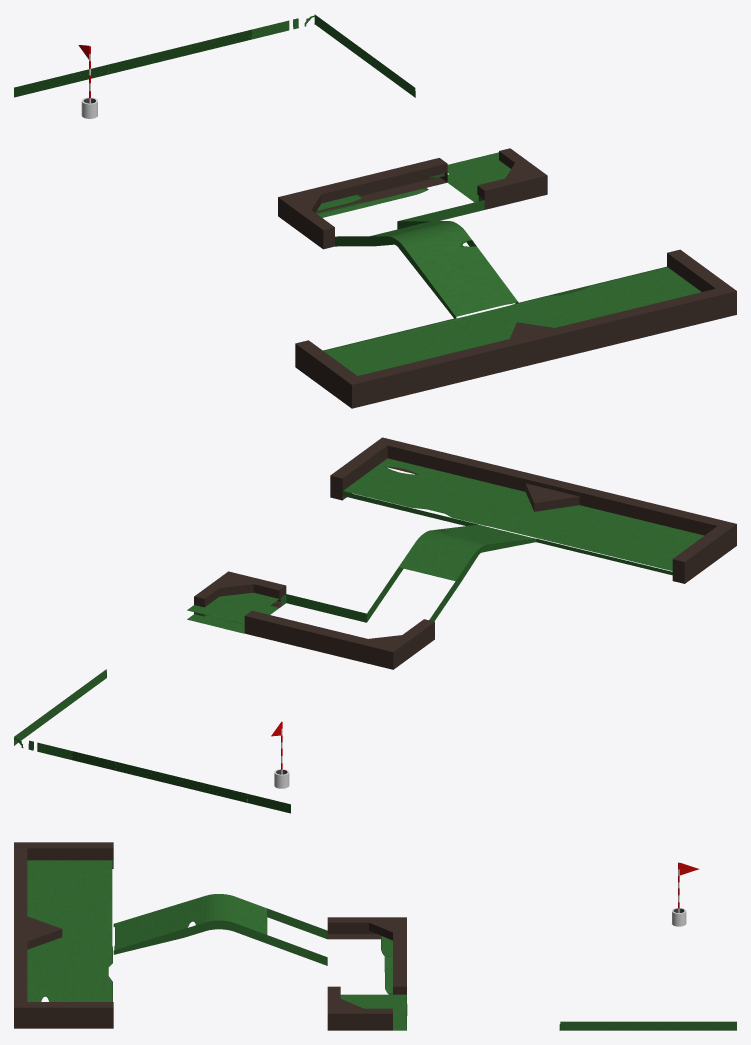
The model's file is Level 1.fbx.
3 renders of one model, top to bottom at view 1: azimuth 30°, elevation 25°; view 2: azimuth 150°, elevation 25°; view 3: azimuth 270°, elevation 25°, orthographic. The views are drawn at different scales.
Visible parts, largest first — view 1: Course.001, Course; view 2: Course.001, Course, Corner; view 3: Course.001, Course, Corner, Corner3.001.
Part boxes in pixels (bbox=[...]): Course.001: bbox=[14, 14, 701, 375]; Course: bbox=[278, 148, 736, 408]; Course.001: bbox=[14, 458, 703, 813]; Course: bbox=[194, 437, 736, 669]; Corner: bbox=[525, 483, 579, 511]; Course.001: bbox=[27, 860, 736, 1030]; Course: bbox=[14, 842, 406, 1030]; Corner: bbox=[27, 916, 62, 949]; Corner3.001: bbox=[369, 922, 392, 940].
Size of the model in its own units: 2237 by 387 by 4136.
8 materials, 1 textured.
